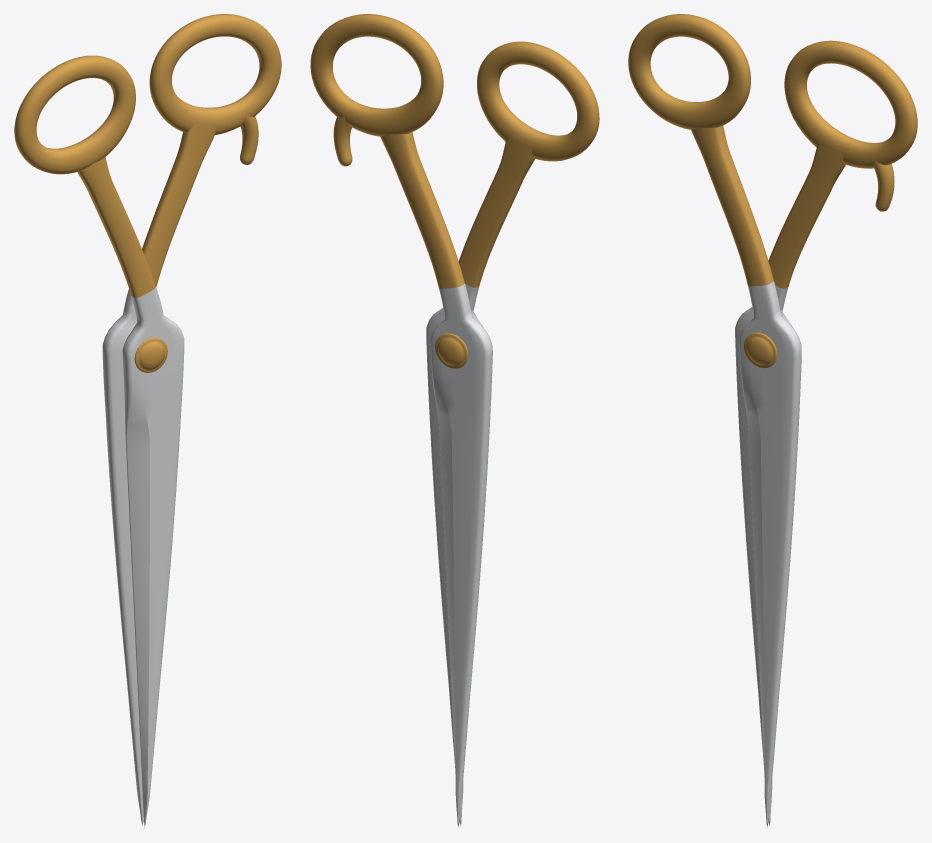
The model's file is scissors.glb.
3 views of the same model, side by side, from view 1: azimuth 30°, elevation 25°; view 2: azimuth 150°, elevation 25°; view 3: azimuth 330°, elevation 25° (orthographic).
Parts seen in each view (by area): view 1: BladeL_Mesh, BladeR_Mesh, Rivet_Mesh; view 2: BladeR_Mesh, BladeL_Mesh, Rivet_Mesh; view 3: BladeL_Mesh, BladeR_Mesh, Rivet_Mesh.
Boxes of the visible parts, x1,y1,x2,y2 form: BladeL_Mesh: [14, 55, 184, 827]; BladeR_Mesh: [102, 14, 281, 826]; Rivet_Mesh: [134, 337, 167, 372]; BladeR_Mesh: [310, 14, 492, 827]; BladeL_Mesh: [426, 41, 599, 826]; Rivet_Mesh: [435, 333, 468, 368]; BladeL_Mesh: [628, 14, 801, 827]; BladeR_Mesh: [735, 40, 917, 826]; Rivet_Mesh: [744, 332, 777, 368].
Size of the model in its own units: 0.3631 by 1 by 0.0479.
